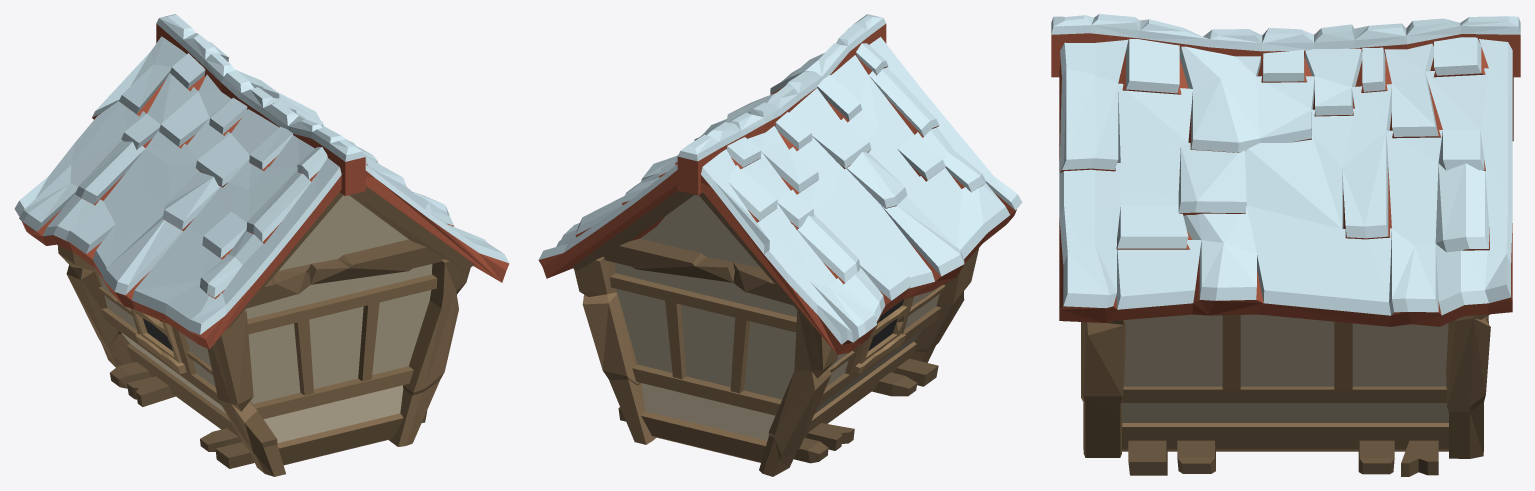
File: SM_Bld_House_TopRoomSmall_04_Snow.gltf
3 renders of one model, left to right at view 1: azimuth 30°, elevation 25°; view 2: azimuth 150°, elevation 25°; view 3: azimuth 270°, elevation 25°, orthographic. The views are drawn at different scales.
Visible parts, largest first — view 1: SM_Bld_House_TopRoomSmall_04_Snow; view 2: SM_Bld_House_TopRoomSmall_04_Snow; view 3: SM_Bld_House_TopRoomSmall_04_Snow.
Part boxes in pixels (x1,y1,x2,y2): SM_Bld_House_TopRoomSmall_04_Snow: (14,14,509,476); SM_Bld_House_TopRoomSmall_04_Snow: (538,14,1022,476); SM_Bld_House_TopRoomSmall_04_Snow: (1051,14,1520,476).
Size of the model in its own units: 4.68 by 4.37 by 4.67.
Materials: 1 (1 with a texture image).
